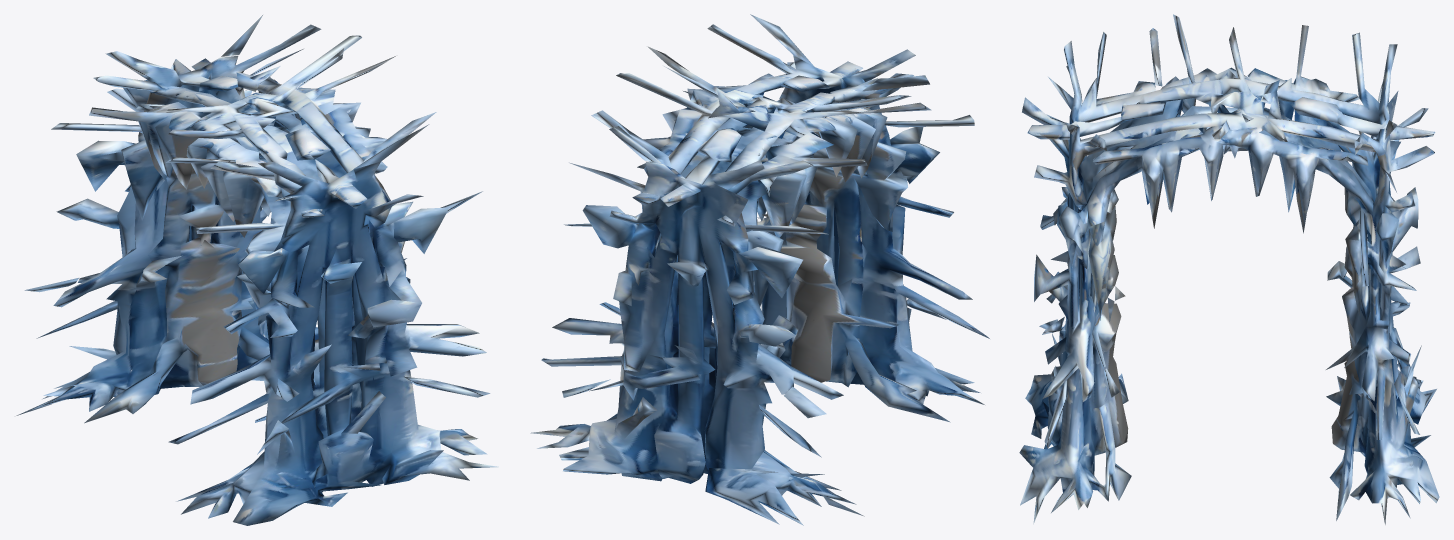
The model's file is IceArchway.obj.
3 renders of one model, left to right at view 1: azimuth 30°, elevation 25°; view 2: azimuth 150°, elevation 25°; view 3: azimuth 270°, elevation 25°, orthographic. The views are drawn at different scales.
Visible parts, largest first — view 1: tripo_node_95e85870-00e8-493e-8590-fbc0d329fdfc; view 2: tripo_node_95e85870-00e8-493e-8590-fbc0d329fdfc; view 3: tripo_node_95e85870-00e8-493e-8590-fbc0d329fdfc.
Part boxes in pixels (left/top/right/bottom): tripo_node_95e85870-00e8-493e-8590-fbc0d329fdfc: left=16, top=15, right=498, bottom=525; tripo_node_95e85870-00e8-493e-8590-fbc0d329fdfc: left=530, top=14, right=989, bottom=525; tripo_node_95e85870-00e8-493e-8590-fbc0d329fdfc: left=1019, top=14, right=1439, bottom=524.
Size of the model in its own units: 1 by 1 by 1.
Materials: 1 (1 with a texture image).
